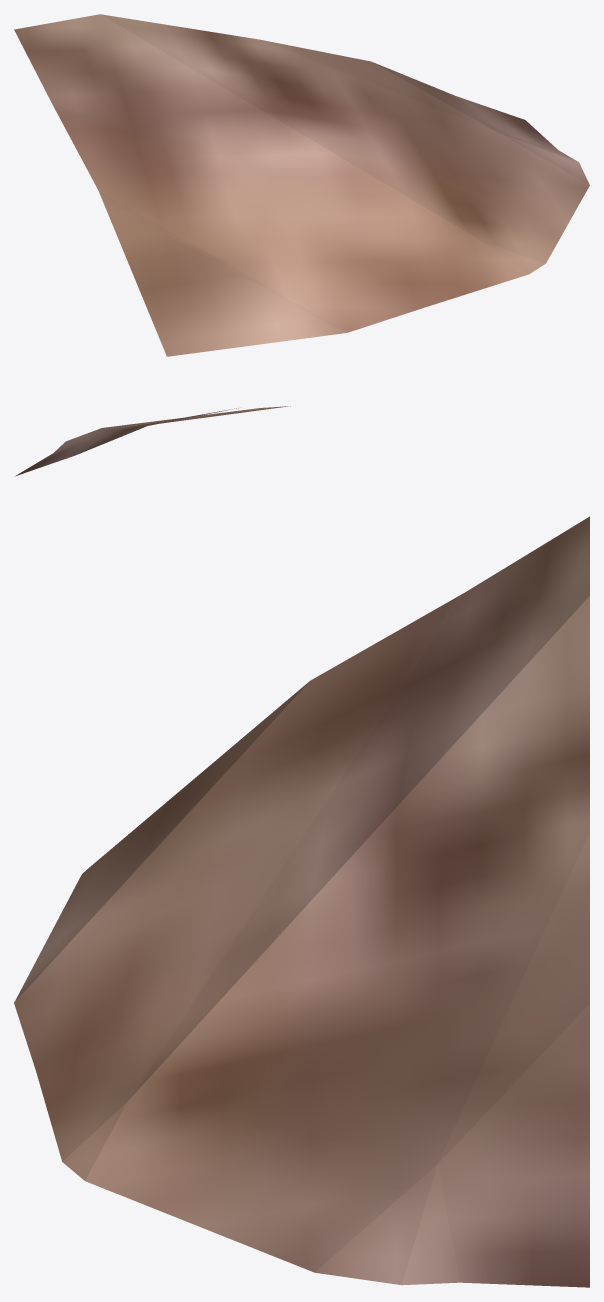
3 renders of one model, top to bottom at view 1: azimuth 30°, elevation 25°; view 2: azimuth 150°, elevation 25°; view 3: azimuth 270°, elevation 25°, orthographic. The views are drawn at different scales.
Size of the model in its own units: 0.0699 by 0.0281 by 0.0411.
Materials: 1 (1 with a texture image).
